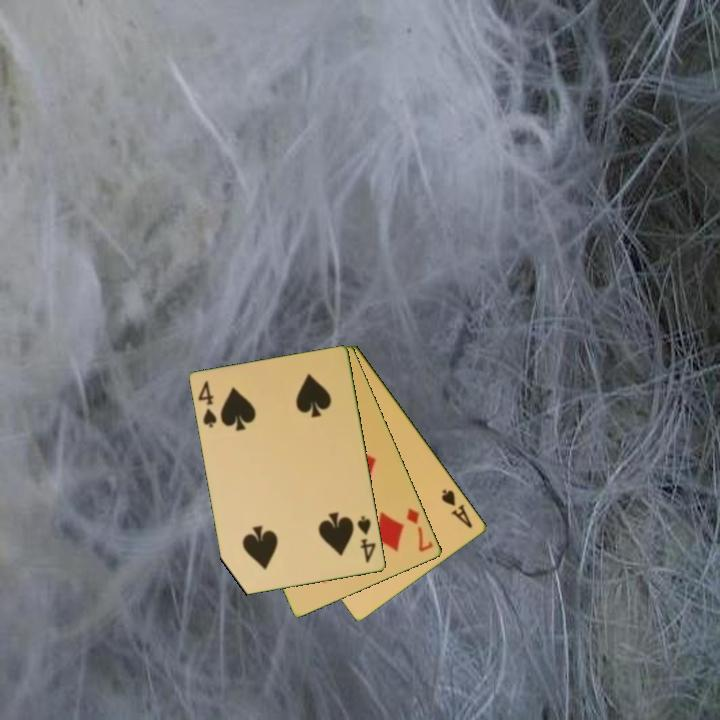4s: (354, 512, 379, 566), (195, 378, 220, 431)
7d: (403, 504, 436, 555)
As: (438, 486, 476, 531)
